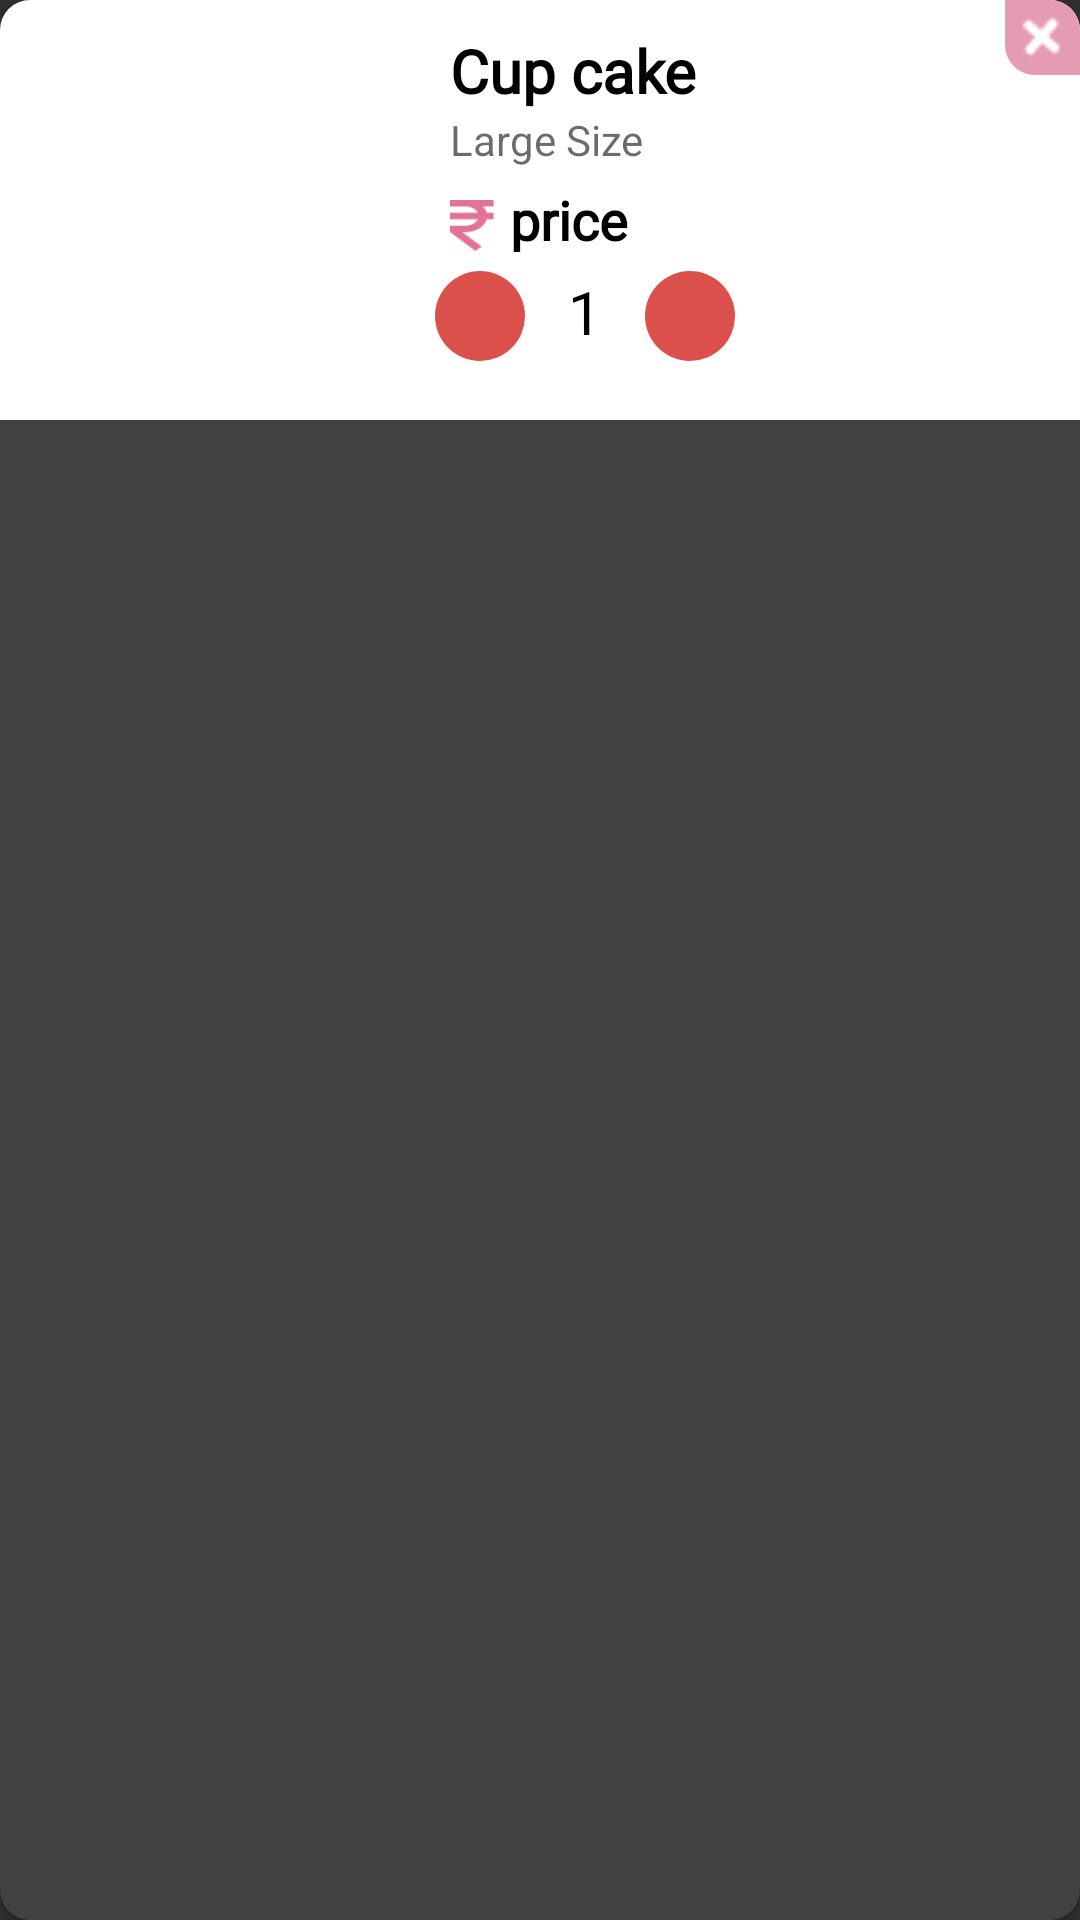

Icon click points for this 1080x1920 phone screenshot, format point (x, y):
cancal: point (1042, 37)
rupee: point (472, 225)
